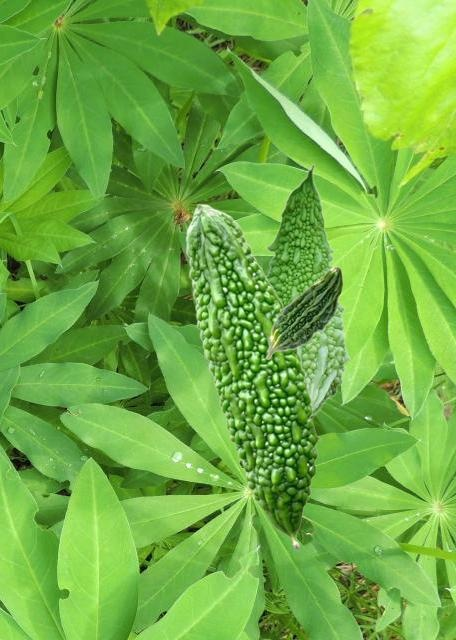ampalaya: (183, 201, 322, 553), (264, 163, 351, 418), (265, 265, 345, 360)
